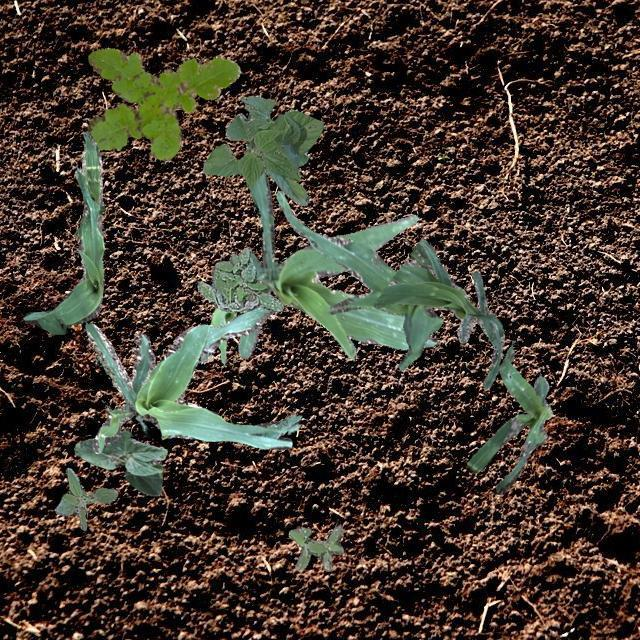crop: (238, 140, 438, 358), (85, 306, 300, 452), (276, 190, 442, 368), (372, 236, 503, 388), (22, 130, 104, 334), (202, 94, 322, 204), (466, 343, 552, 492), (72, 430, 166, 494), (202, 306, 236, 364)
weed: (85, 48, 238, 160), (196, 246, 282, 310), (54, 466, 116, 530), (288, 524, 342, 570)
